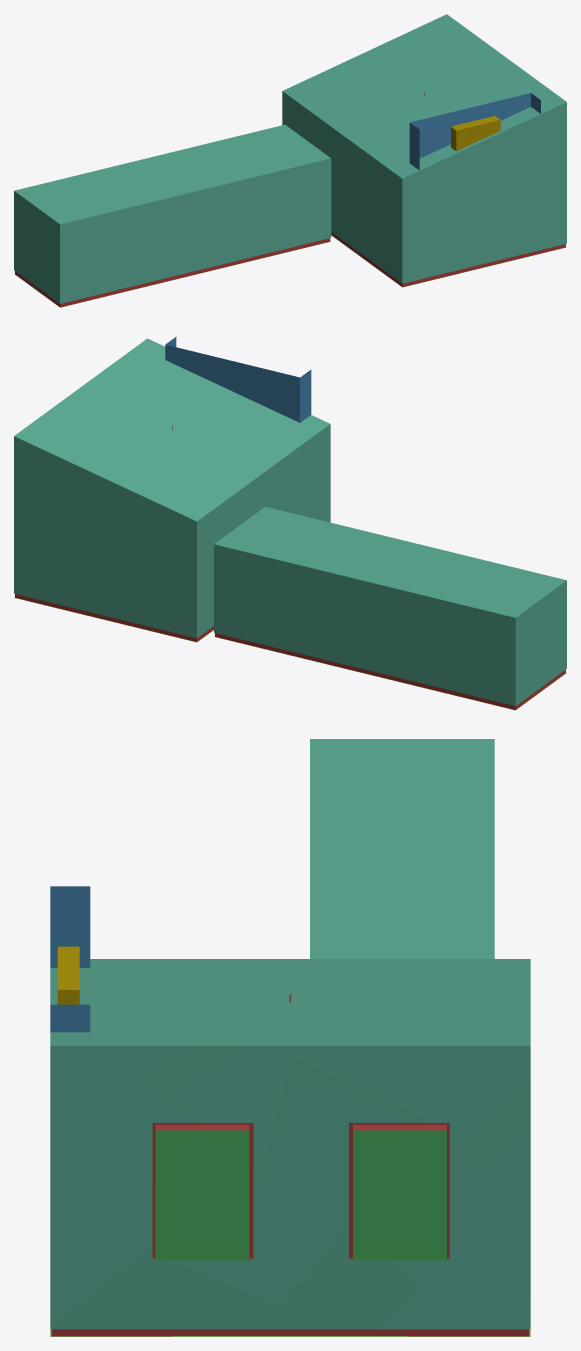
Rendered from room.fbx.
3 renders of one model, top to bottom at view 1: azimuth 30°, elevation 25°; view 2: azimuth 150°, elevation 25°; view 3: azimuth 270°, elevation 25°, orthographic. The views are drawn at different scales.
Parts seen in each view (by area): view 1: walls1, hallway, stone, baseboard, chimney, floor; view 2: walls1, hallway, stone, baseboard, floor; view 3: walls1, hallway, window_2, window_1, stone, baseboard, window_trim1, window_trim2, chimney.
Boxes of the visible parts, bbox=[...] form: walls1: bbox=[282, 14, 566, 283]; hallway: bbox=[14, 124, 331, 303]; stone: bbox=[409, 93, 540, 282]; baseboard: bbox=[15, 232, 565, 307]; chimney: bbox=[451, 116, 500, 151]; floor: bbox=[14, 235, 566, 307]; walls1: bbox=[14, 338, 330, 638]; hallway: bbox=[214, 506, 566, 706]; stone: bbox=[165, 337, 311, 422]; baseboard: bbox=[15, 594, 565, 709]; floor: bbox=[14, 597, 566, 710]; walls1: bbox=[50, 959, 530, 1329]; hallway: bbox=[310, 739, 494, 958]; window_2: bbox=[155, 1130, 249, 1260]; window_1: bbox=[353, 1130, 446, 1260]; stone: bbox=[50, 886, 90, 1032]; baseboard: bbox=[51, 1329, 529, 1336]; window_trim1: bbox=[152, 1123, 253, 1259]; window_trim2: bbox=[349, 1123, 449, 1259]; chimney: bbox=[57, 946, 79, 1004].
Bounding box in the file's own units: 1289 × 424 × 600.
